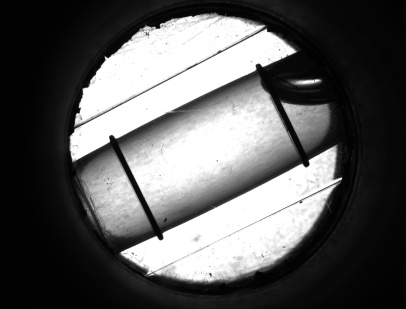line: (111, 155, 158, 218), (273, 113, 307, 146)
